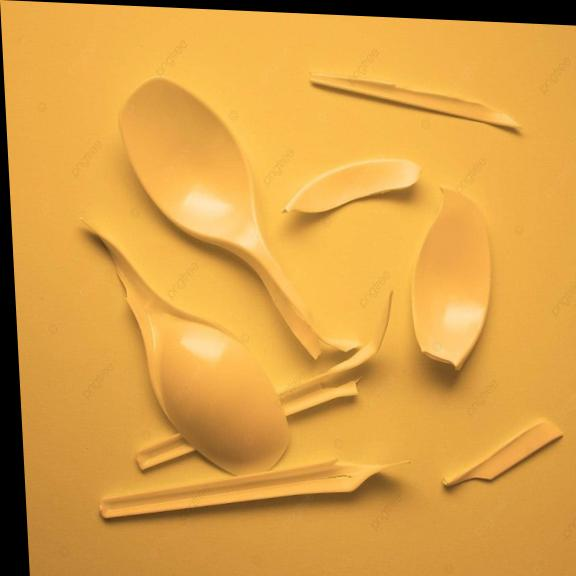Plastik: (119, 78, 358, 358), (82, 220, 288, 474), (412, 188, 491, 370), (283, 159, 421, 213)
